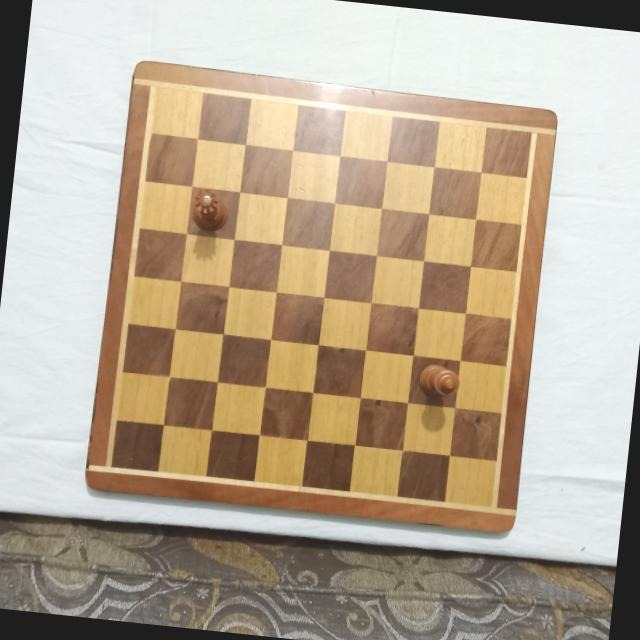white-king: (415, 362, 459, 402)
white-queen: (187, 187, 228, 237)
